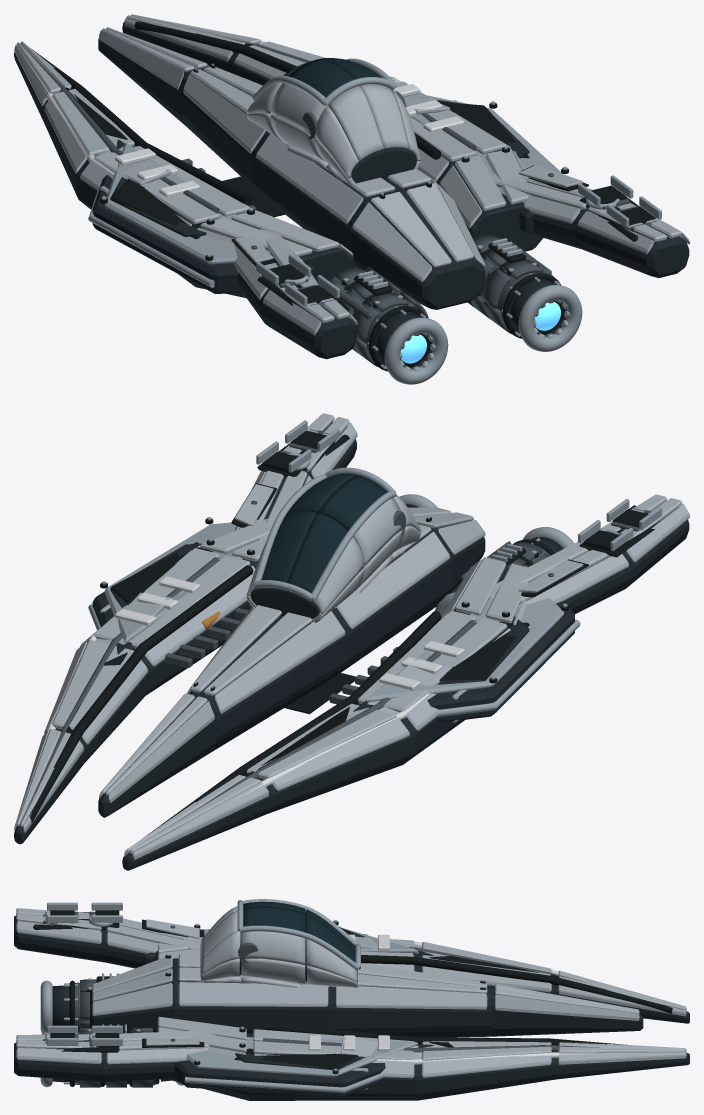
Rendered from leonov.glb.
3 views of the same model, one above another, from view 1: azimuth 30°, elevation 25°; view 2: azimuth 150°, elevation 25°; view 3: azimuth 270°, elevation 25° (orthographic). The views are drawn at different scales.
Parts seen in each view (by area): view 1: leonov.001; view 2: leonov.001; view 3: leonov.001.
Boxes of the visible parts, box(x1,y1,x2,y2) form: leonov.001: box(14, 14, 689, 384); leonov.001: box(14, 413, 689, 870); leonov.001: box(14, 899, 689, 1100).
Size of the model in its own units: 3.27 by 1.52 by 6.
